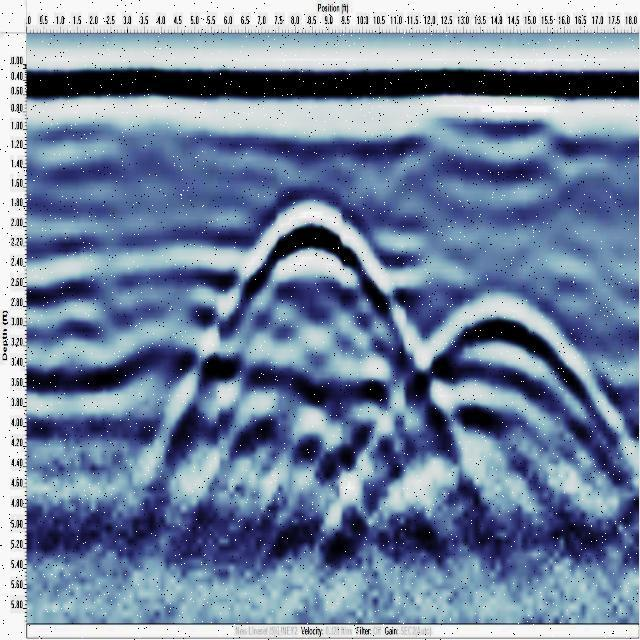hyperbola: (139, 182, 488, 512), (340, 290, 624, 494)
